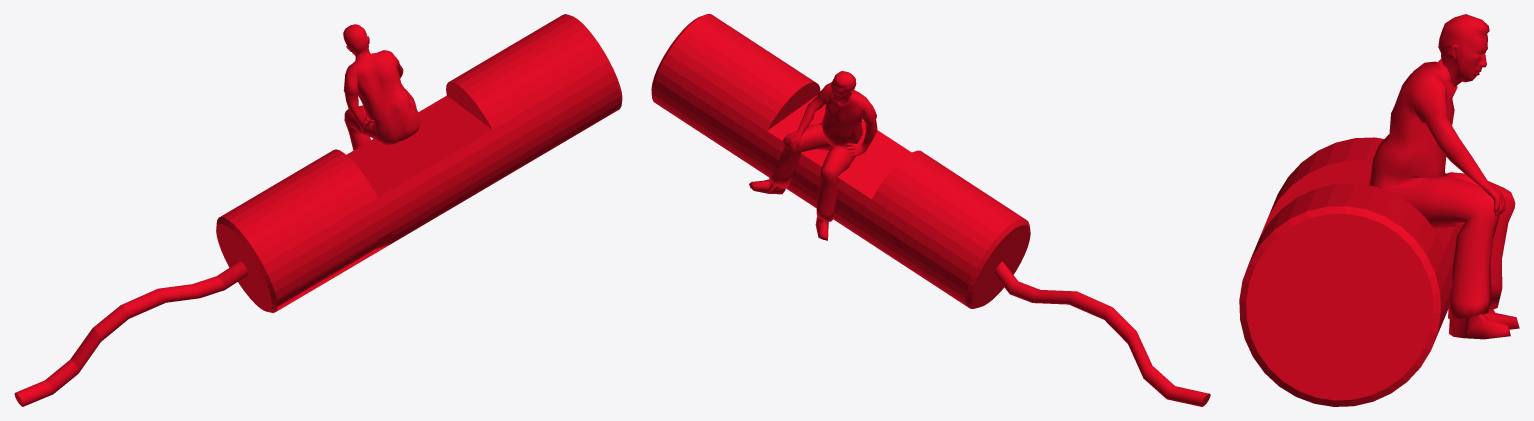
The model's file is dinamita.glb.
3 views of the same model, side by side, from view 1: azimuth 30°, elevation 25°; view 2: azimuth 150°, elevation 25°; view 3: azimuth 270°, elevation 25° (orthographic). The views are drawn at different scales.
Parts seen in each view (by area): view 1: Cilindro.001; view 2: Cilindro.001; view 3: Cilindro.001.
Boxes of the visible parts, x1=… form: Cilindro.001: x1=14, y1=14, x2=622, y2=406; Cilindro.001: x1=651, y1=14, x2=1210, y2=406; Cilindro.001: x1=1239, y1=14, x2=1519, y2=406.
Size of the model in its own units: 16.43 by 7.54 by 3.76.
